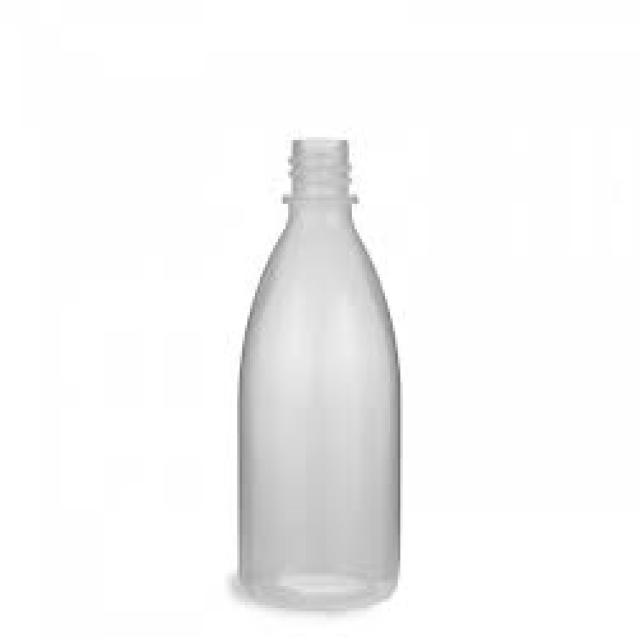glass: (237, 134, 398, 608)
